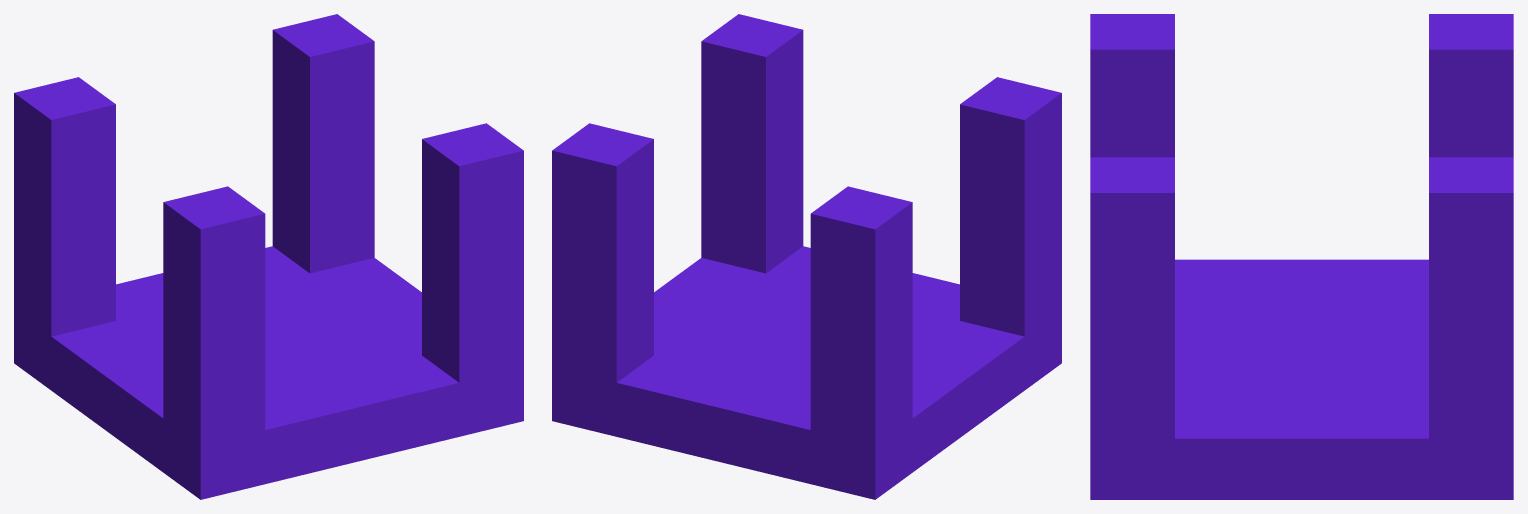
Rendered from Tunnel Box X_Turn.glb.
The picture shows the model from 3 angles, left to right: view 1: azimuth 30°, elevation 25°; view 2: azimuth 150°, elevation 25°; view 3: azimuth 270°, elevation 25°; orthographic projection. The views are drawn at different scales.
Visible parts, largest first — view 1: X_Turn; view 2: X_Turn; view 3: X_Turn.
Part boxes in pixels (<box>): X_Turn: <box>14,14,523,499</box>; X_Turn: <box>552,14,1061,499</box>; X_Turn: <box>1090,14,1513,499</box>.
Bounding box in the file's own units: 10 × 8 × 10.
